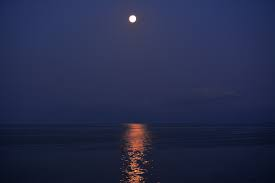moon: (128, 14, 137, 23)
